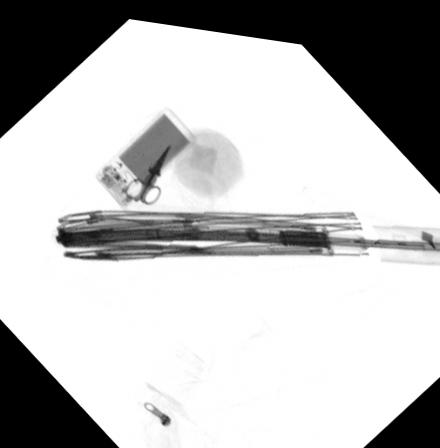Powerbank: (93, 100, 199, 205)
Scissors: (122, 138, 171, 199)
